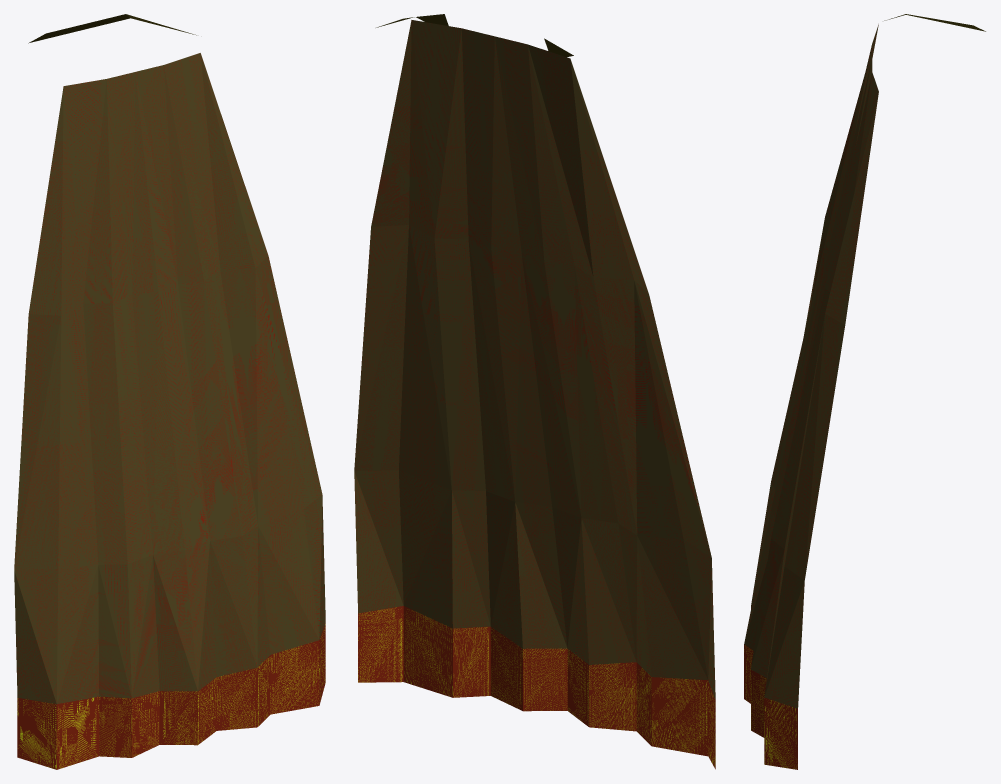
The model's file is npc_world_winelda_5.obj.
The picture shows the model from 3 angles, left to right: view 1: azimuth 30°, elevation 25°; view 2: azimuth 150°, elevation 25°; view 3: azimuth 270°, elevation 25°; orthographic projection. The views are drawn at different scales.
Size of the model in its own units: 0.4219 by 0.8359 by 0.2812.
